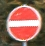No entry: (6, 5, 40, 41)
